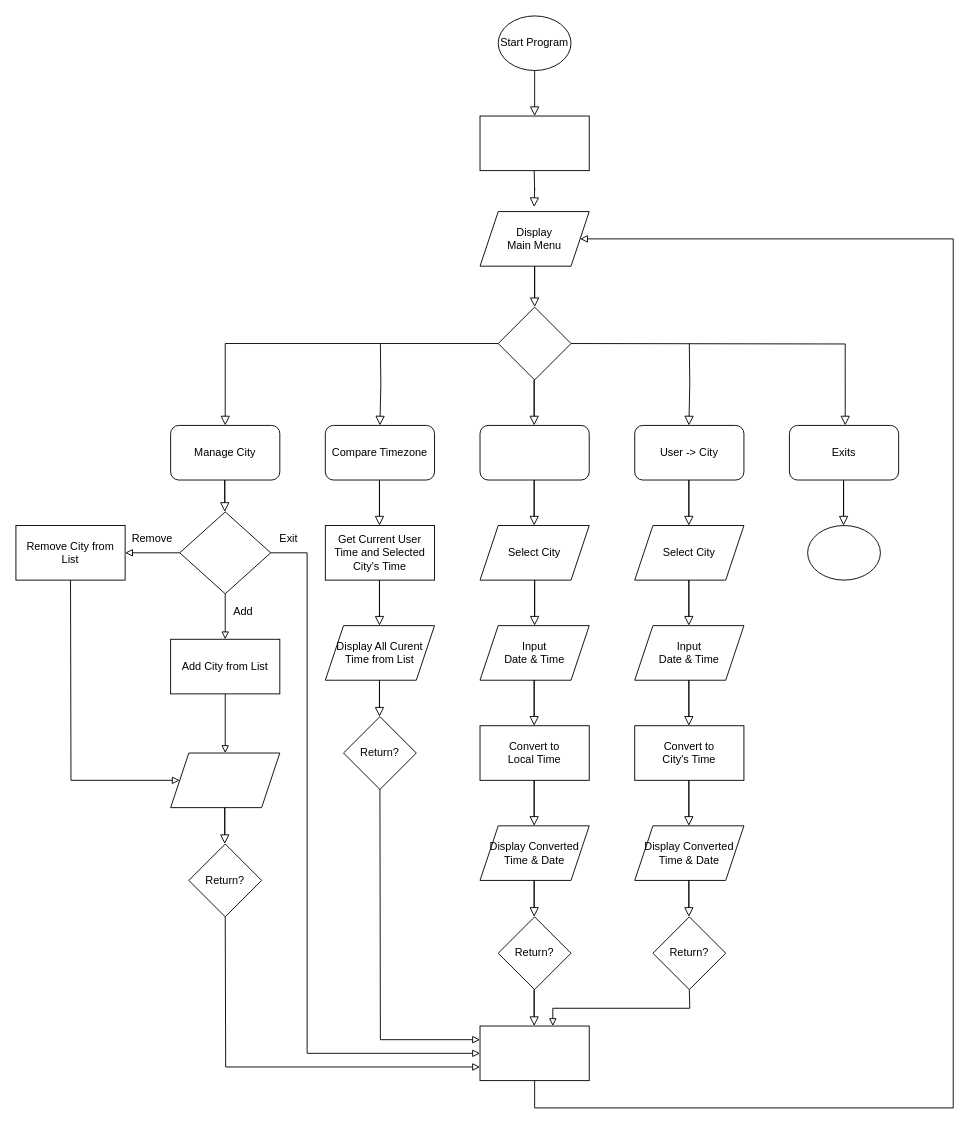
This 976x1131 diagram has some shape labels left out. The shapes that lost their labels are listed below. From the top down, each one's box as (x1, y1, x2, y2) in pixels, then its label:
(479, 115, 589, 171): Initialize Cities and Time Zones
(497, 306, 571, 380): Select Option
(479, 425, 589, 480): City -> User
(179, 511, 271, 594): Add or Remove or Exit
(807, 525, 880, 580): End Program
(170, 752, 280, 808): Display Updated List
(479, 1025, 589, 1081): Return to Main Menu
